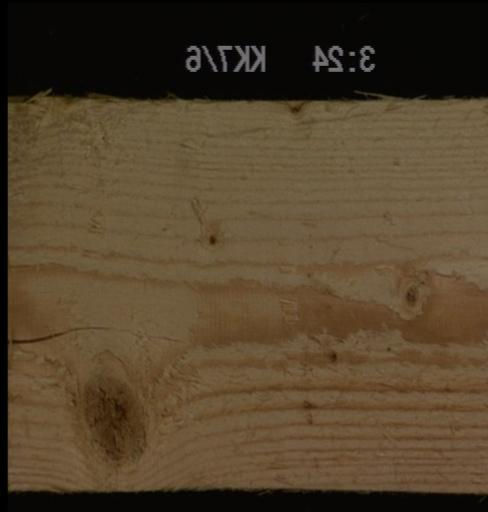small_knot: (397, 275, 424, 311), (282, 98, 306, 114), (205, 229, 218, 245)
sound_knot: (79, 369, 148, 463)
split: (6, 321, 107, 342)
